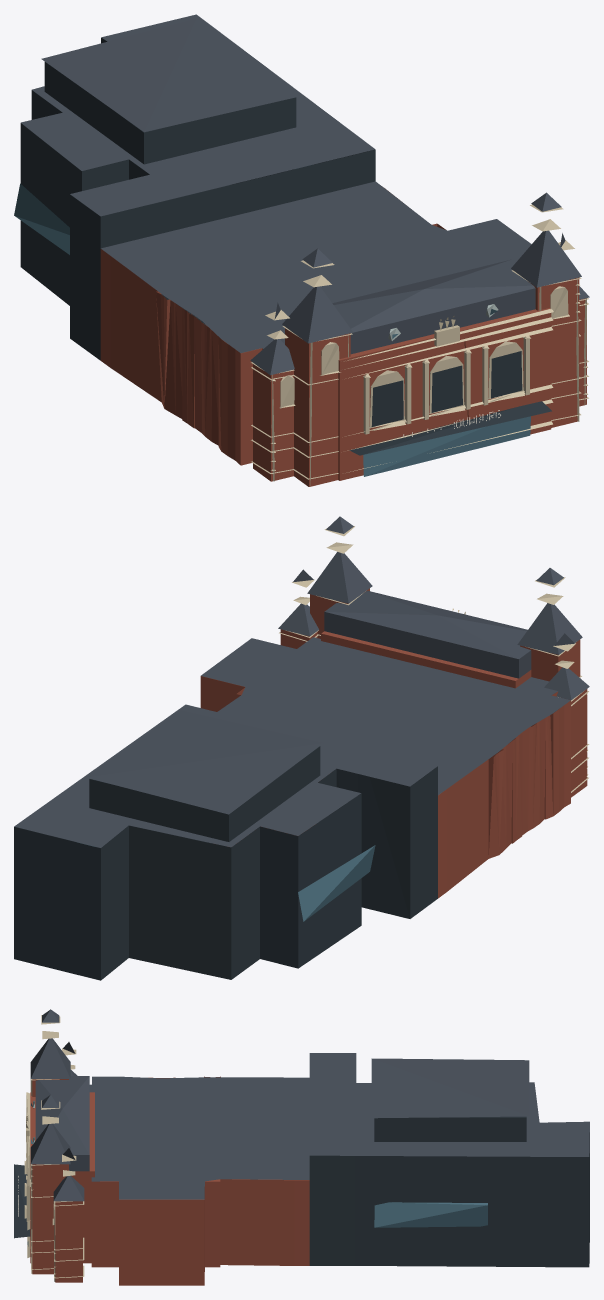
File: stadsschouwburg.lod1.glb
3 renders of one model, top to bottom at view 1: azimuth 30°, elevation 25°; view 2: azimuth 150°, elevation 25°; view 3: azimuth 270°, elevation 25°, orthographic. The views are drawn at different scales.
Parts seen in each view (by area): view 1: stadsschouwburg; view 2: stadsschouwburg; view 3: stadsschouwburg.
Part boxes in pixels (box(x1,y1,x2,y2)): stadsschouwburg: box(14, 14, 589, 486); stadsschouwburg: box(14, 516, 589, 980); stadsschouwburg: box(14, 1009, 589, 1285).
Size of the model in its own units: 53.97 by 35.11 by 107.
